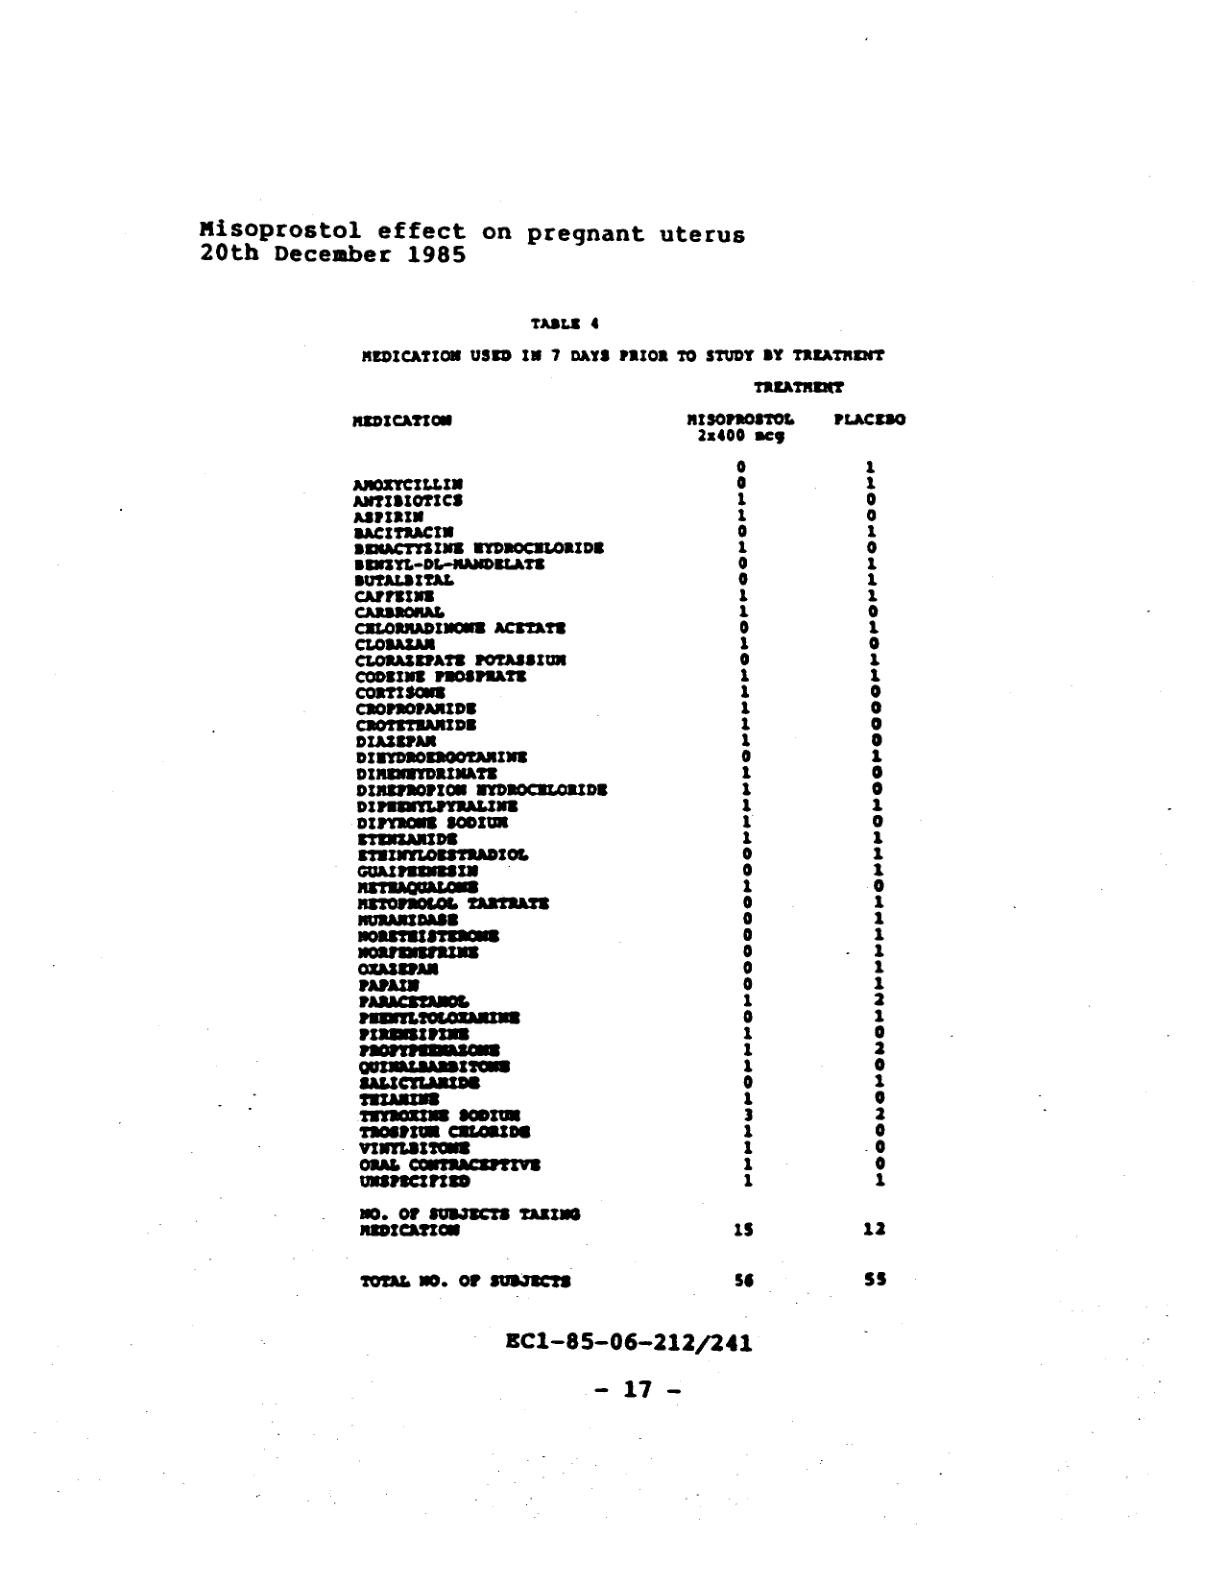nolines: (348, 413, 906, 1288)
